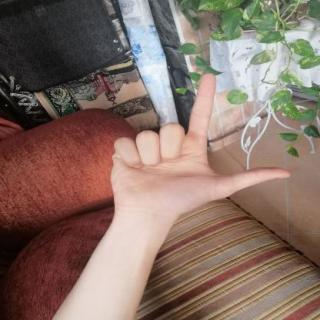LAAM: (99, 66, 298, 222)
